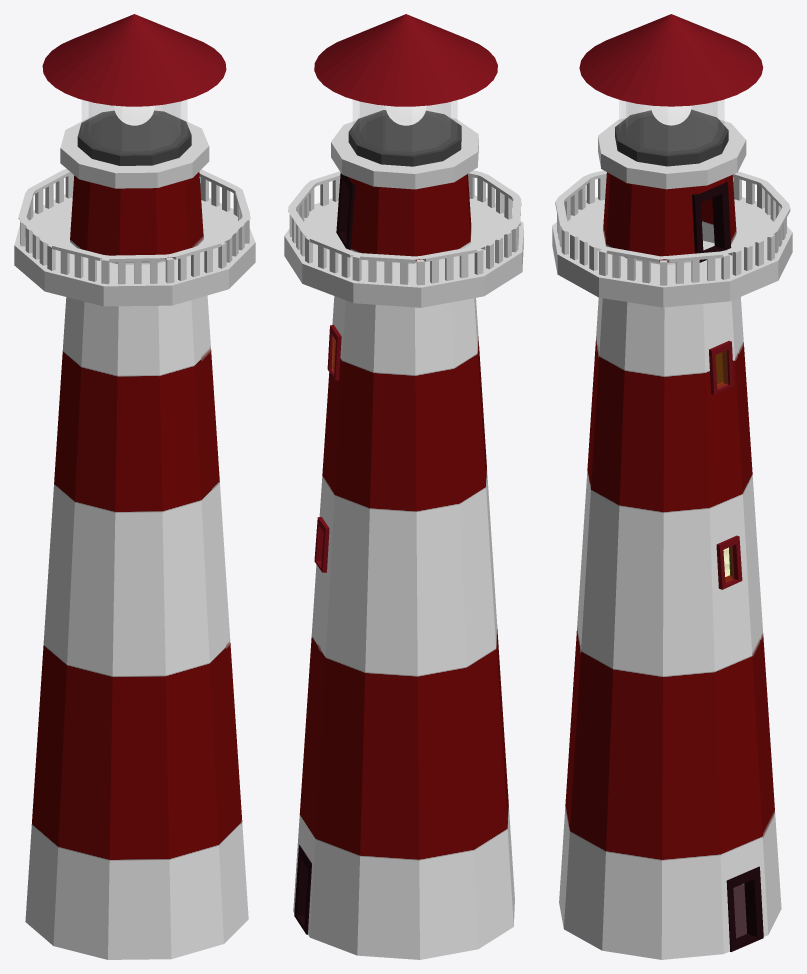
Rendered from lignt_tower.glb.
3 views of the same model, side by side, from view 1: azimuth 30°, elevation 25°; view 2: azimuth 150°, elevation 25°; view 3: azimuth 270°, elevation 25° (orthographic).
Parts seen in each view (by area): view 1: маяк, Шляпа, платформа, перила, переход светяшка, переход, бокс для светяшки, светяшка; view 2: маяк, Шляпа, платформа, перила, переход светяшка, переход, бокс для светяшки, окна, дверной проем, дверной проем.001, светяшка; view 3: маяк, Шляпа, платформа, перила, переход светяшка, переход, бокс для светяшки, дверной проем, окна, дверной проем.001, светяшка.
Part boxes in pixels (left/top/right/bottom): маяк: left=25, top=172, right=248, bottom=959; Шляпа: left=42, top=14, right=226, bottom=106; платформа: left=14, top=194, right=255, bottom=306; перила: left=18, top=169, right=250, bottom=284; переход светяшка: left=77, top=110, right=191, bottom=165; переход: left=60, top=115, right=209, bottom=188; бокс для светяшки: left=82, top=100, right=186, bottom=150; светяшка: left=114, top=105, right=154, bottom=125; маяк: left=293, top=174, right=514, bottom=959; Шляпа: left=314, top=14, right=497, bottom=106; платформа: left=284, top=195, right=523, bottom=307; перила: left=288, top=170, right=521, bottom=285; переход светяшка: left=348, top=110, right=461, bottom=166; переход: left=331, top=117, right=478, bottom=189; бокс для светяшки: left=353, top=100, right=456, bottom=151; окна: left=314, top=325, right=341, bottom=572; дверной проем: left=294, top=845, right=311, bottom=934; дверной проем.001: left=336, top=173, right=355, bottom=249; светяшка: left=385, top=105, right=426, bottom=125; маяк: left=559, top=172, right=781, bottom=959; Шляпа: left=579, top=14, right=763, bottom=106; платформа: left=552, top=197, right=792, bottom=307; перила: left=555, top=170, right=790, bottom=285; переход светяшка: left=615, top=109, right=728, bottom=166; переход: left=598, top=118, right=746, bottom=189; бокс для светяшки: left=619, top=100, right=723, bottom=151; дверной проем: left=726, top=866, right=763, bottom=951; окна: left=709, top=341, right=742, bottom=589; дверной проем.001: left=692, top=181, right=731, bottom=262; светяшка: left=651, top=105, right=691, bottom=125.
Bounding box in the file's own units: 107 × 440 × 107.
10 materials, 1 textured.
